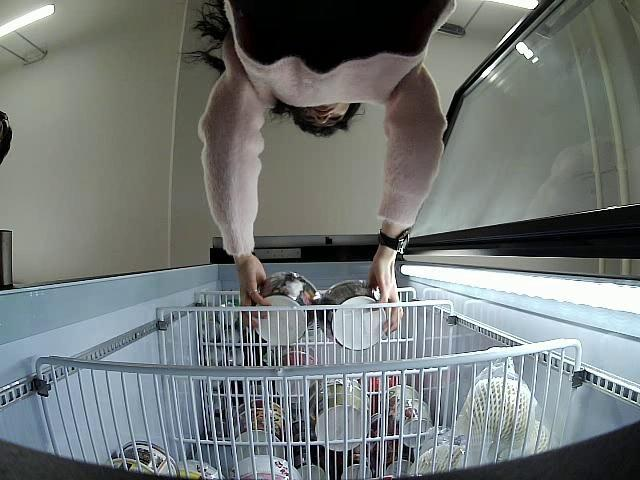07_buldak_L: (251, 271, 318, 344), (318, 280, 388, 349)
